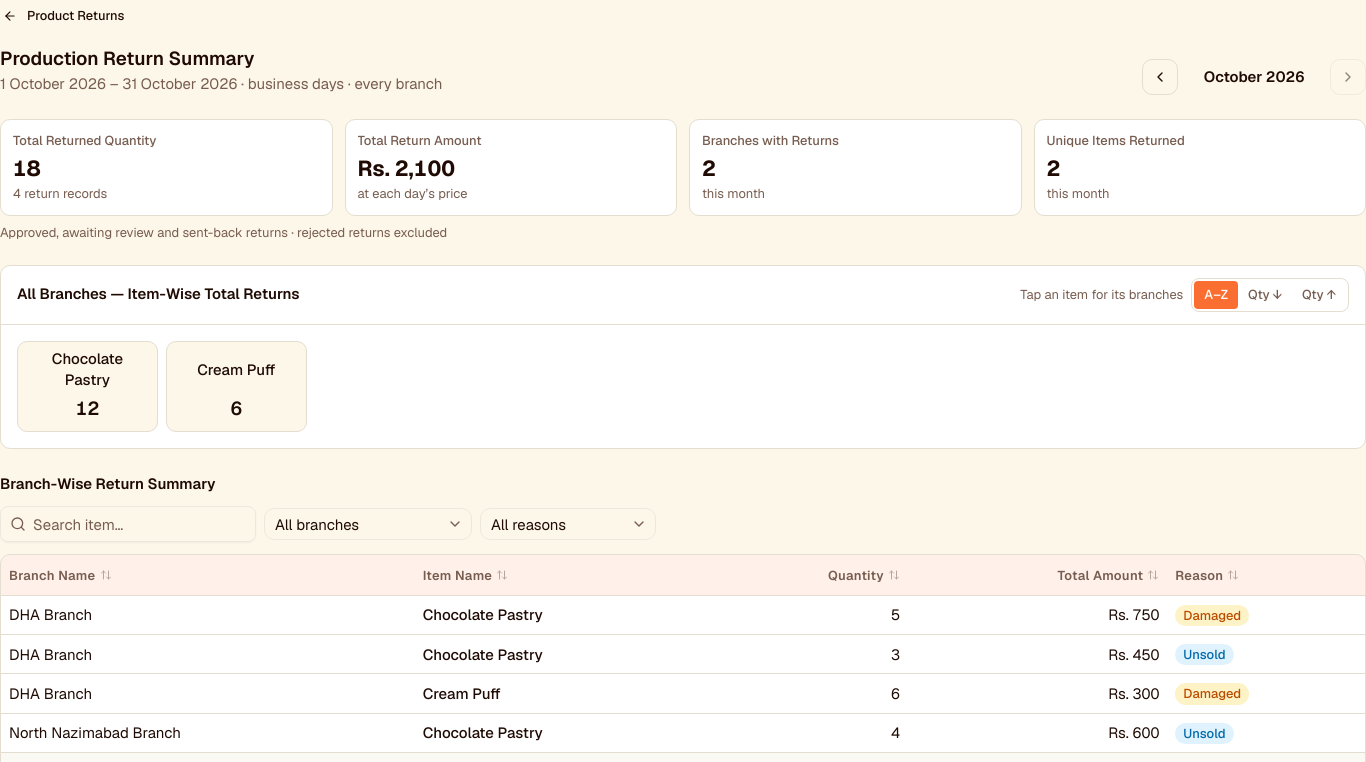
Scenario: ProductionReturnSummaryPage › the item-wise box lists each item once with every branch added, and opens its branches
The image size is (1366, 762).
Click the button "Chocolate Pastry 12" at (87, 386), box [17,341,158,432]
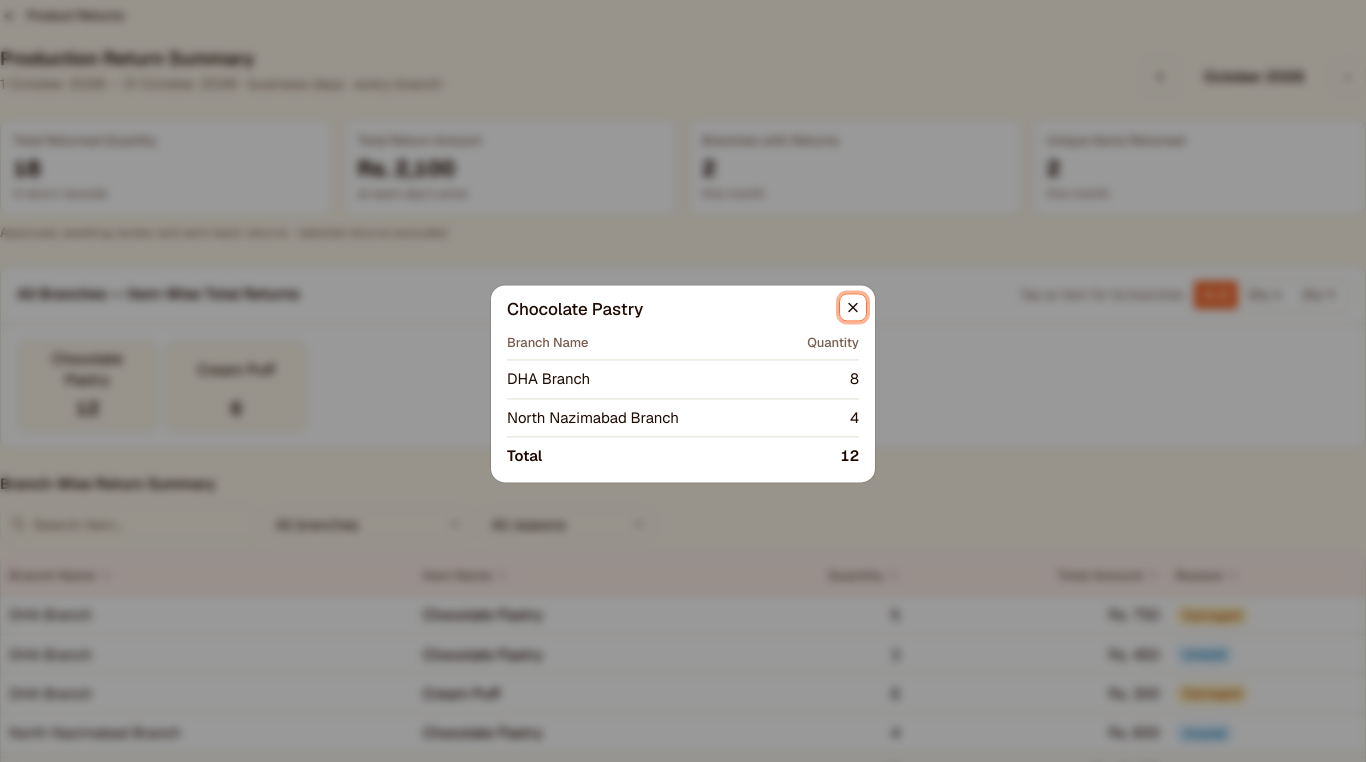
Expected: the text "North Nazimabad Branch" is shown, [507,408,679,427]
Expected: the text "DHA Branch" is shown, [507,370,590,389]
